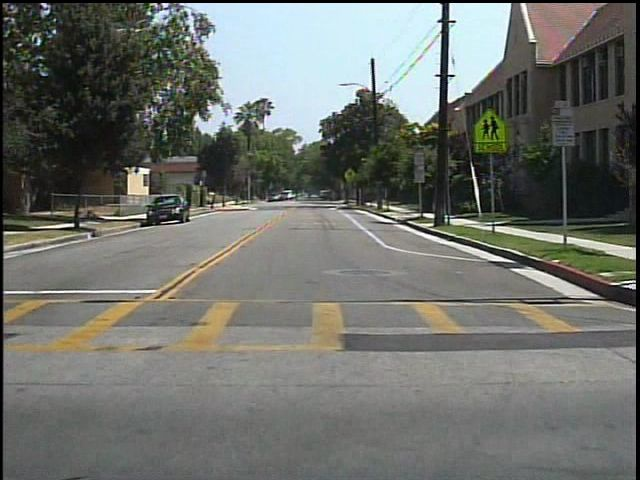person: (303, 189, 317, 207)
